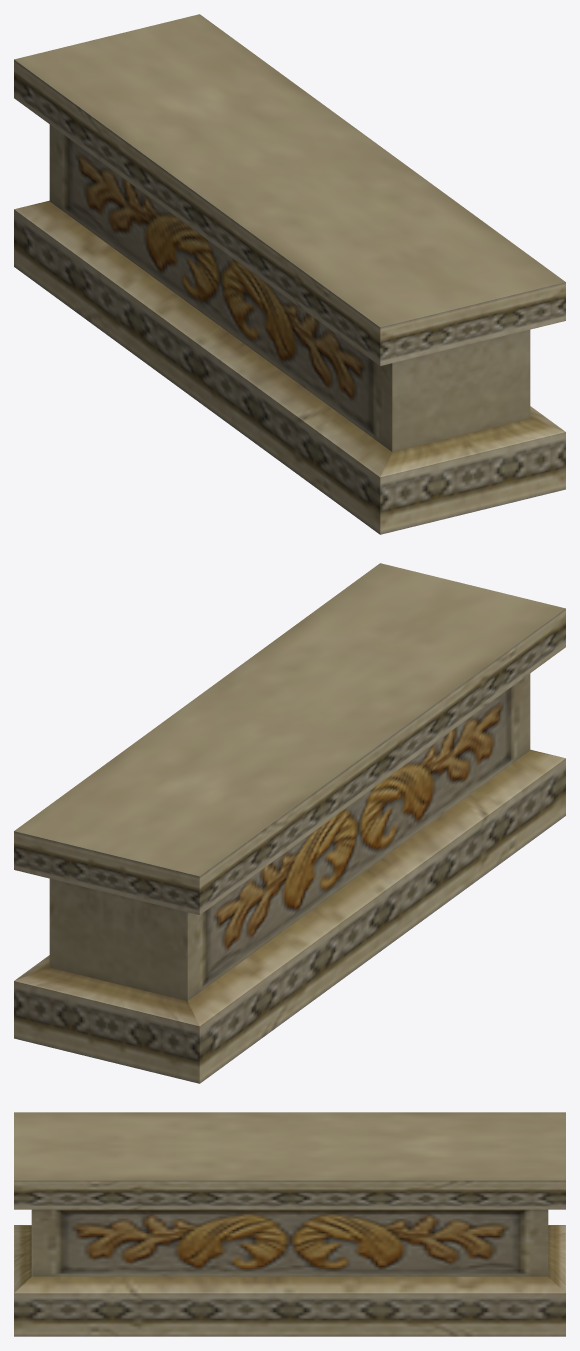
The model's file is Ridge02_Build_LostTemple_001.FBX.
3 renders of one model, top to bottom at view 1: azimuth 30°, elevation 25°; view 2: azimuth 150°, elevation 25°; view 3: azimuth 270°, elevation 25°, orthographic. The views are drawn at different scales.
Visible parts, largest first — view 1: Ridge02_Build_LostTemple_001; view 2: Ridge02_Build_LostTemple_001; view 3: Ridge02_Build_LostTemple_001.
Part boxes in pixels (x1=…): Ridge02_Build_LostTemple_001: x1=14, y1=14, x2=565, y2=534; Ridge02_Build_LostTemple_001: x1=14, y1=563, x2=565, y2=1083; Ridge02_Build_LostTemple_001: x1=14, y1=1112, x2=565, y2=1336.
Bounding box in the file's own units: 116 × 124 × 396.
